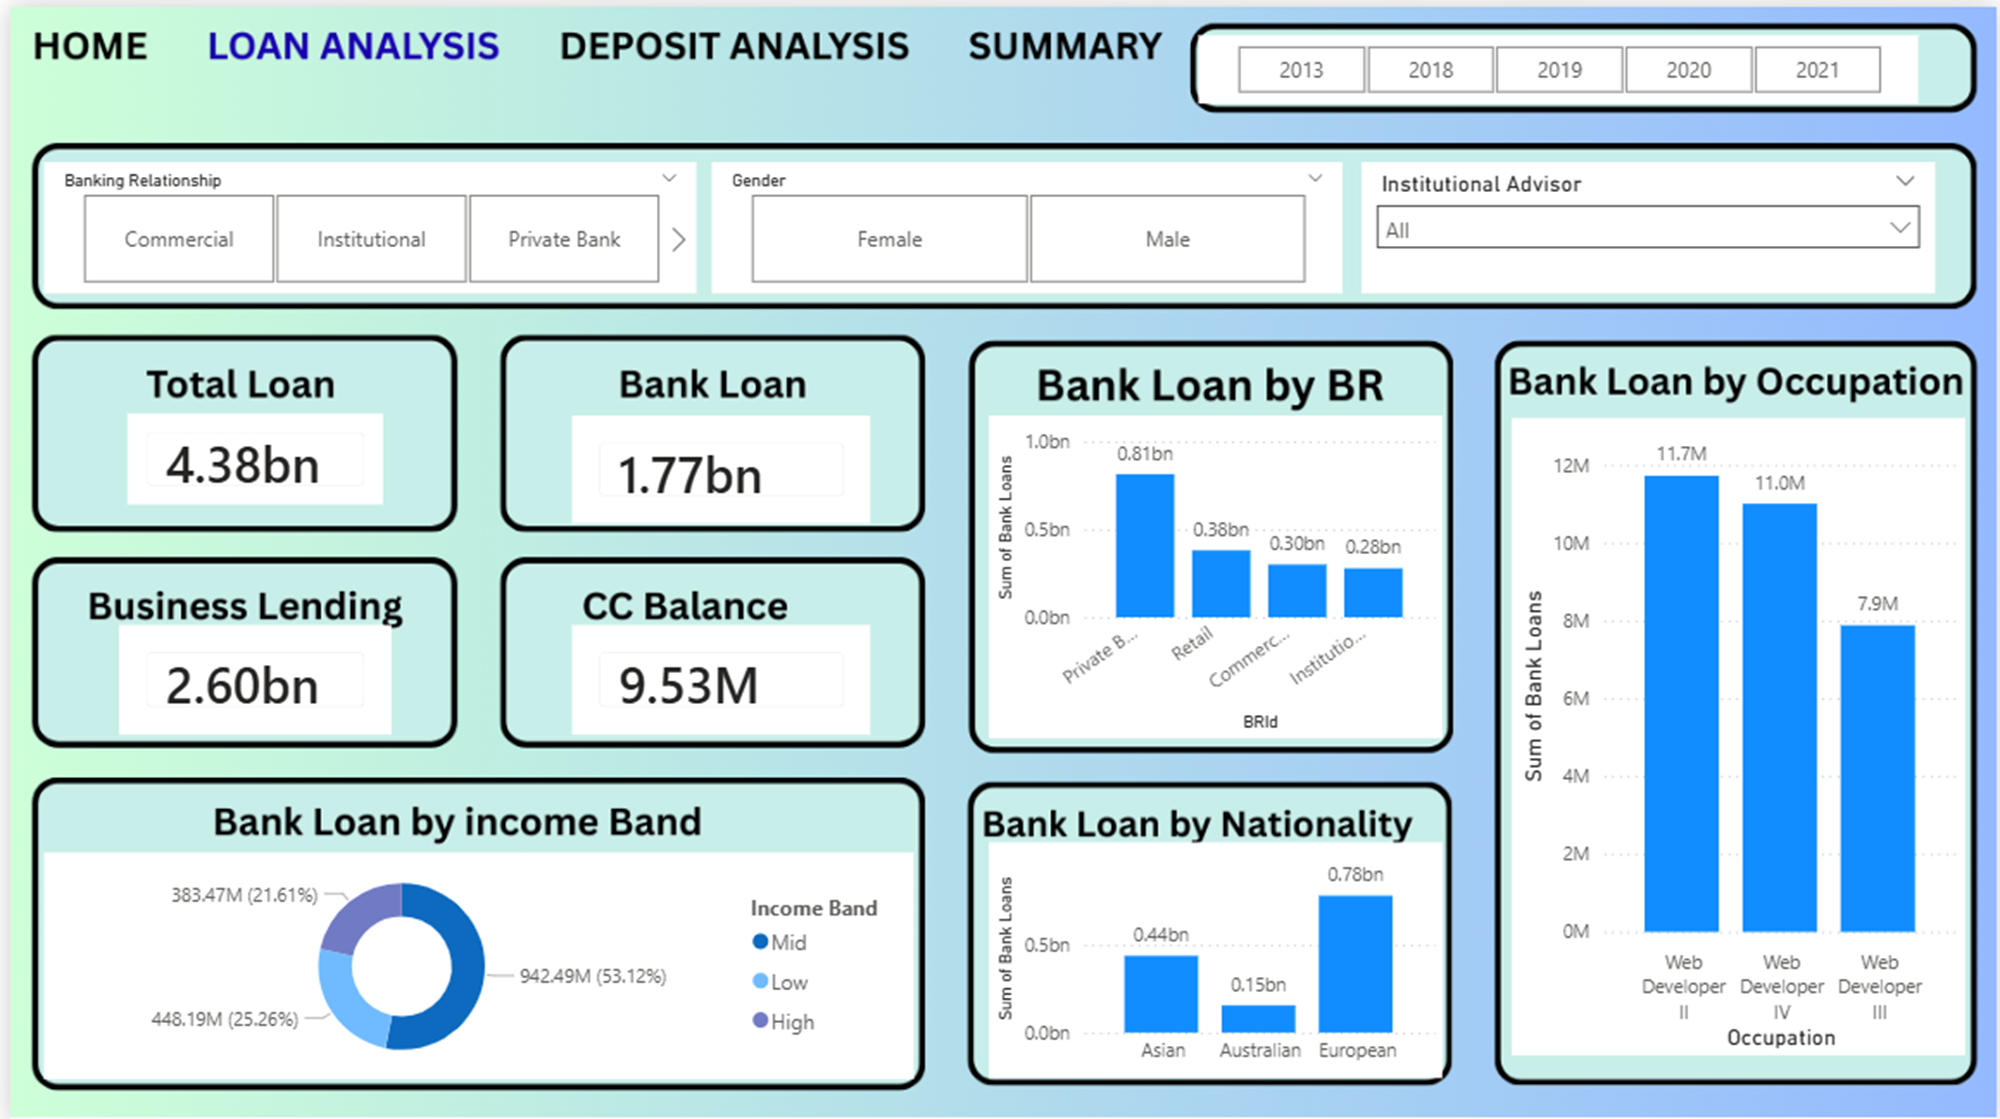

The dashboard page shown, as its layout file describes it:
{"tool":"powerbi","page":{"name":"Loan Analysis","canvas":[1280,720],"ordinal":1},"visuals":[{"type":"slicer","fields":{"Values":["banking_case customers.year_of_joining2"]},"box":[764.5,17.9,463.6,43.9],"z":0},{"type":"actionButton","box":[0,0,100,39.6],"z":1000},{"type":"actionButton","box":[347.2,5.7,234,34],"z":2000},{"type":"actionButton","box":[609.4,0,137.7,39.6],"z":3000},{"type":"cardVisual","fields":{"Data":["banking_case customers.Total_loan"]},"box":[69.8,256.6,175.5,69.8],"z":4000},{"type":"cardVisual","fields":{"Data":["Sum(banking_case customers.Bank Loans)"]},"box":[361.5,263.1,192.3,69.2],"z":5000},{"type":"cardVisual","fields":{"Data":["Sum(banking_case customers.Business Lending)"]},"box":[69.2,398.5,175.4,70.8],"z":6000},{"type":"cardVisual","fields":{"Data":["Sum(banking_case customers.Credit Card Balance)"]},"box":[361.5,398.5,192.3,70.8],"z":7000},{"type":"donutChart","fields":{"Category":["banking_case customers.Income Band"],"Y":["Sum(banking_case customers.Bank Loans)"]},"box":[21.5,544.6,560,146.2],"z":8000},{"type":"clusteredColumnChart","fields":{"Category":["banking_case customers.BRId","banking_case customers.Income Band"],"Y":["Sum(banking_case customers.Bank Loans)"]},"box":[629.2,263.1,292.3,207.7],"z":9000},{"type":"clusteredColumnChart","fields":{"Category":["banking_case customers.Nationality","banking_case customers.BRId","banking_case customers.Income Band"],"Y":["Sum(banking_case customers.Bank Loans)"]},"box":[629.2,538.5,292.3,152.3],"z":10000},{"type":"clusteredColumnChart","fields":{"Category":["banking_case customers.Occupation"],"Y":["Sum(banking_case customers.Bank Loans)"]},"box":[966.2,264.6,292.3,410.8],"z":11000},{"type":"slicer","fields":{"Values":["banking_case customers.BRId"]},"box":[21.5,100,420,84.6],"z":12000},{"type":"slicer","fields":{"Values":["banking_case customers.GenderId"]},"box":[452.3,100,406.2,84.6],"z":12001},{"type":"slicer","fields":{"Values":["banking_case customers.IAId"]},"box":[870.8,100,369.2,84.6],"z":12002}]}

Visuals, with their boxes in screenshot pixels (x1, y1, x2, y2), scaled from the page's 1280x720 canvas onto the 2000x1119 screenshot:
slicer - banking_case customers.year_of_joining2: detection(1195, 28, 1919, 96)
actionButton: detection(0, 0, 156, 62)
actionButton: detection(542, 9, 908, 62)
actionButton: detection(952, 0, 1167, 62)
cardVisual - banking_case customers.Total_loan: detection(109, 399, 383, 507)
cardVisual - Sum(banking_case customers.Bank Loans): detection(565, 409, 865, 516)
cardVisual - Sum(banking_case customers.Business Lending): detection(108, 619, 382, 729)
cardVisual - Sum(banking_case customers.Credit Card Balance): detection(565, 619, 865, 729)
donutChart - banking_case customers.Income Band x Sum(banking_case customers.Bank Loans): detection(34, 846, 909, 1074)
clusteredColumnChart - banking_case customers.BRId x banking_case customers.Income Band: detection(983, 409, 1440, 732)
clusteredColumnChart - banking_case customers.Nationality x banking_case customers.BRId: detection(983, 837, 1440, 1074)
clusteredColumnChart - banking_case customers.Occupation x Sum(banking_case customers.Bank Loans): detection(1510, 411, 1966, 1050)
slicer - banking_case customers.BRId: detection(34, 155, 690, 287)
slicer - banking_case customers.GenderId: detection(707, 155, 1341, 287)
slicer - banking_case customers.IAId: detection(1361, 155, 1938, 287)
